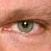eye: (19, 21, 33, 33)
